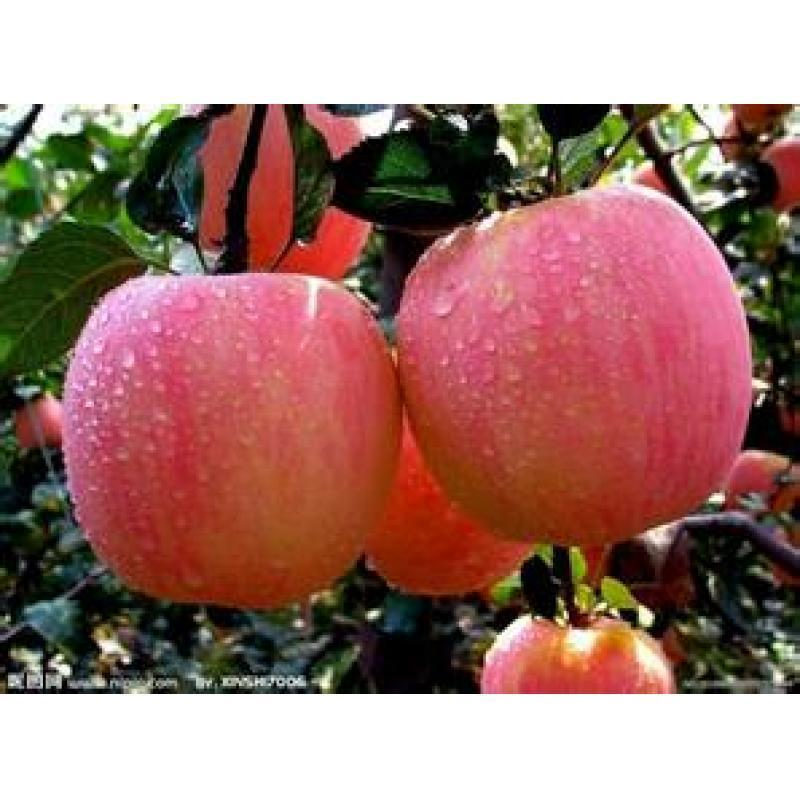apple: (402, 187, 761, 584), (60, 282, 402, 614)
